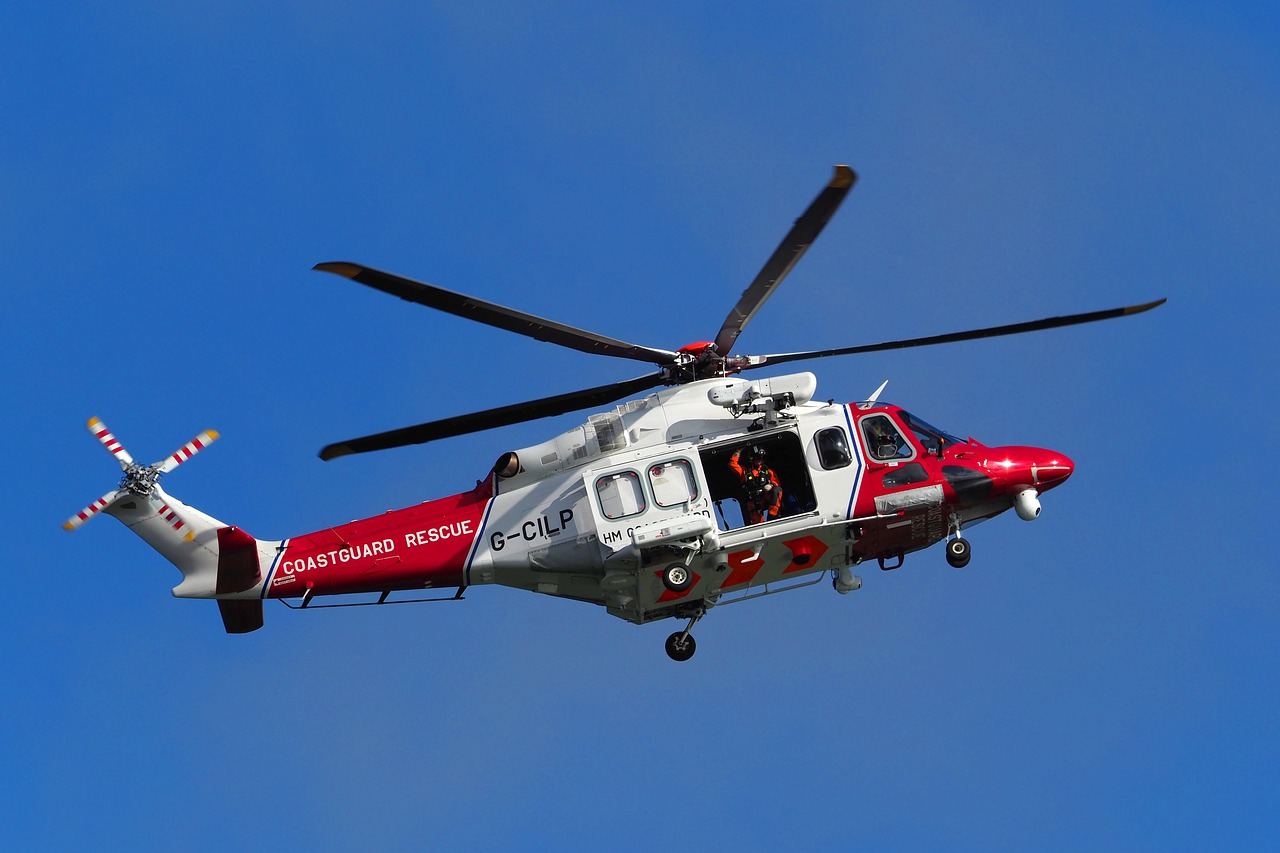Helicopter: (79, 163, 1172, 672)
